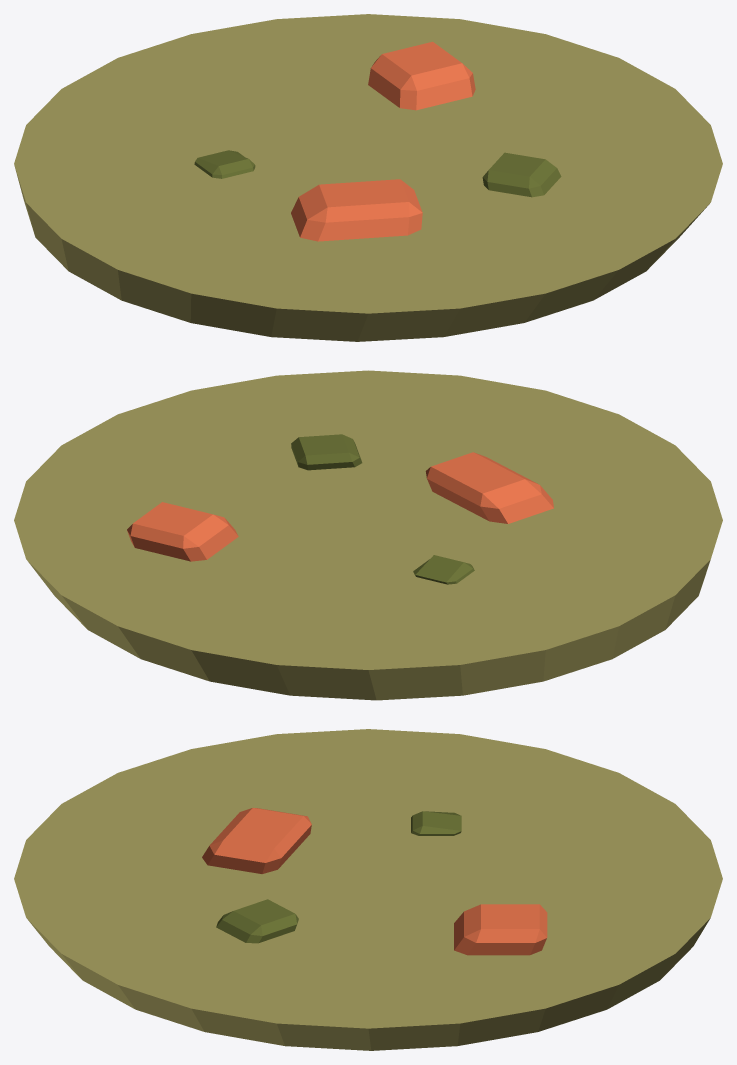
Rendered from badSoup.fbx.
3 renders of one model, top to bottom at view 1: azimuth 30°, elevation 25°; view 2: azimuth 150°, elevation 25°; view 3: azimuth 270°, elevation 25°, orthographic.
Parts seen in each view (by area): view 1: Bad Soup; view 2: Bad Soup; view 3: Bad Soup.
Boxes of the visible parts, left/top/right/bottom form: Bad Soup: left=14, top=14, right=722, bottom=341; Bad Soup: left=14, top=370, right=722, bottom=700; Bad Soup: left=14, top=729, right=722, bottom=1050.
Bounding box in the file's own units: 8.61 × 8.61 × 0.7878.
